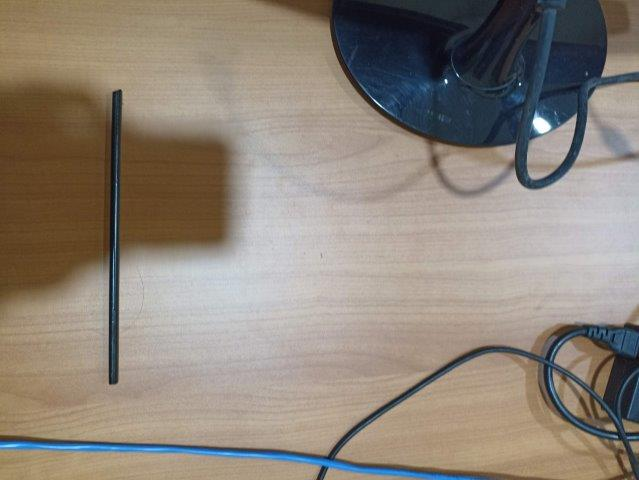sedotan: (109, 89, 122, 383)
